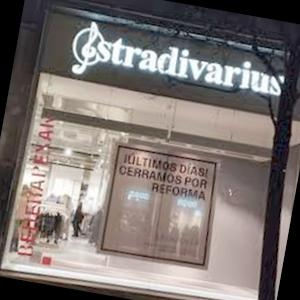stradivarius: (221, 69, 300, 84)
